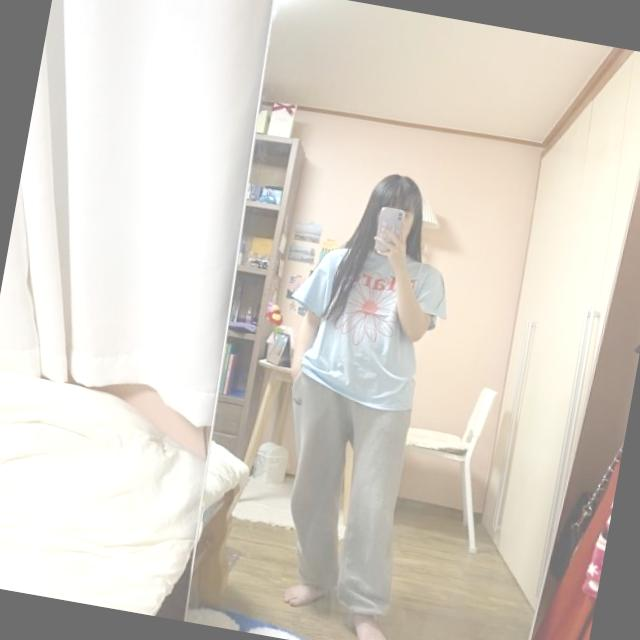shortsleeve: (274, 232, 455, 414)
trainingpants: (258, 362, 426, 614)
